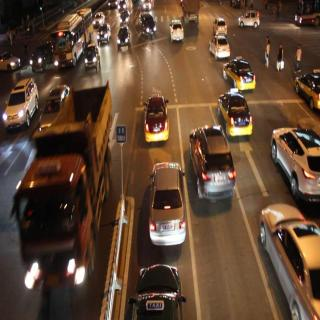BigCar: (22, 97, 103, 256), (60, 23, 85, 64)
Car: (252, 205, 320, 304), (259, 109, 320, 205), (193, 124, 231, 201), (132, 88, 180, 145), (211, 85, 255, 138), (147, 158, 173, 231), (141, 266, 174, 320), (228, 53, 255, 97)
